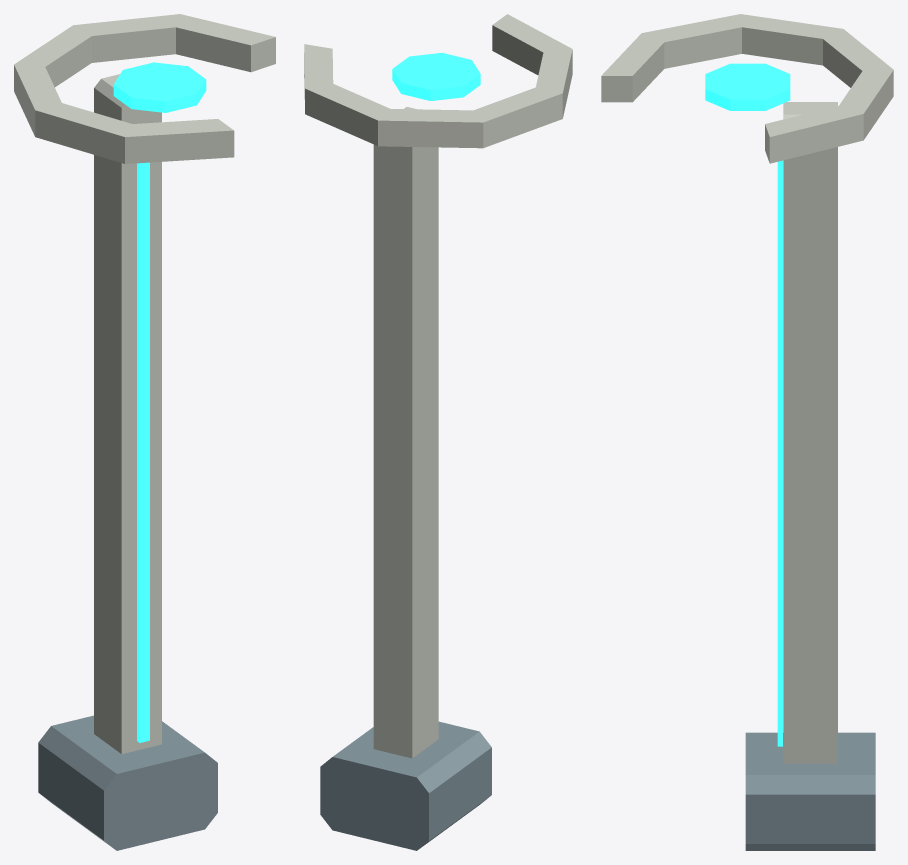
Rendered from City_Streetlight_4m.glb.
3 views of the same model, side by side, from view 1: azimuth 30°, elevation 25°; view 2: azimuth 150°, elevation 25°; view 3: azimuth 270°, elevation 25° (orthographic). The views are drawn at different scales.
Visible parts, largest first — view 1: City_Streetlight_4m_Mast, City_Streetlight_4m_Luminaire, City_Streetlight_4m_Foundation; view 2: City_Streetlight_4m_Mast, City_Streetlight_4m_Luminaire, City_Streetlight_4m_Foundation; view 3: City_Streetlight_4m_Mast, City_Streetlight_4m_Luminaire, City_Streetlight_4m_Foundation.
Part boxes in pixels (<box>): City_Streetlight_4m_Mast: <box>94,74,161,753</box>; City_Streetlight_4m_Luminaire: <box>14,14,275,163</box>; City_Streetlight_4m_Foundation: <box>38,715,217,850</box>; City_Streetlight_4m_Mast: <box>373,107,438,758</box>; City_Streetlight_4m_Luminaire: <box>304,14,572,148</box>; City_Streetlight_4m_Foundation: <box>320,721,491,850</box>; City_Streetlight_4m_Mast: <box>777,102,837,763</box>; City_Streetlight_4m_Luminaire: <box>601,14,893,163</box>; City_Streetlight_4m_Foundation: <box>745,732,875,850</box>.
Bounding box in the file's own units: 1.39 × 3.97 × 1.4.
